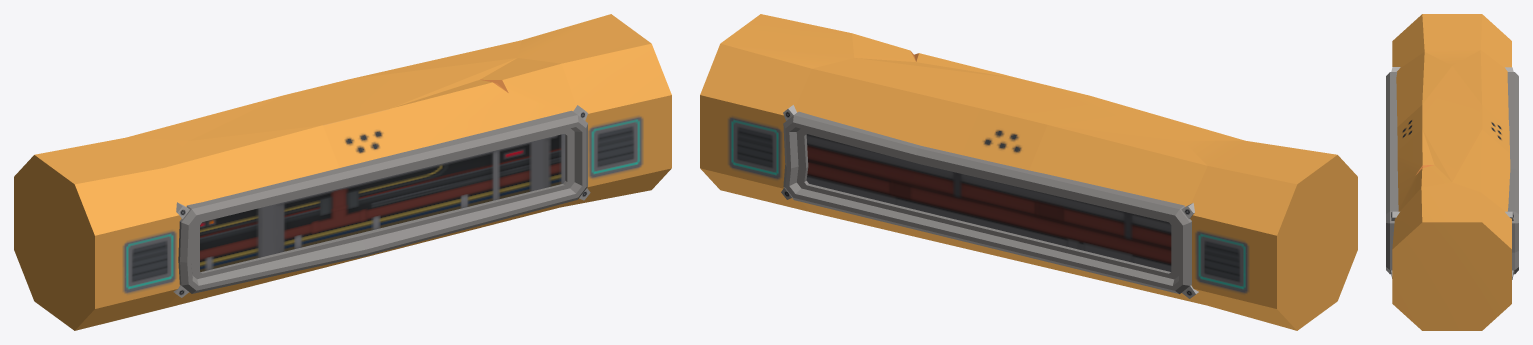
File: SM_Bld_Pipe_Large_Octo_04.fbx
3 renders of one model, left to right at view 1: azimuth 30°, elevation 25°; view 2: azimuth 150°, elevation 25°; view 3: azimuth 270°, elevation 25°, orthographic. The views are drawn at different scales.
Visible parts, largest first — view 1: SM_Bld_Pipe_Large_Octo_04; view 2: SM_Bld_Pipe_Large_Octo_04; view 3: SM_Bld_Pipe_Large_Octo_04.
Boxes of the visible parts, bbox=[...] form: SM_Bld_Pipe_Large_Octo_04: bbox=[14, 14, 671, 330]; SM_Bld_Pipe_Large_Octo_04: bbox=[700, 14, 1357, 330]; SM_Bld_Pipe_Large_Octo_04: bbox=[1386, 14, 1518, 330].
Size of the model in its own units: 500 by 123 by 135.
